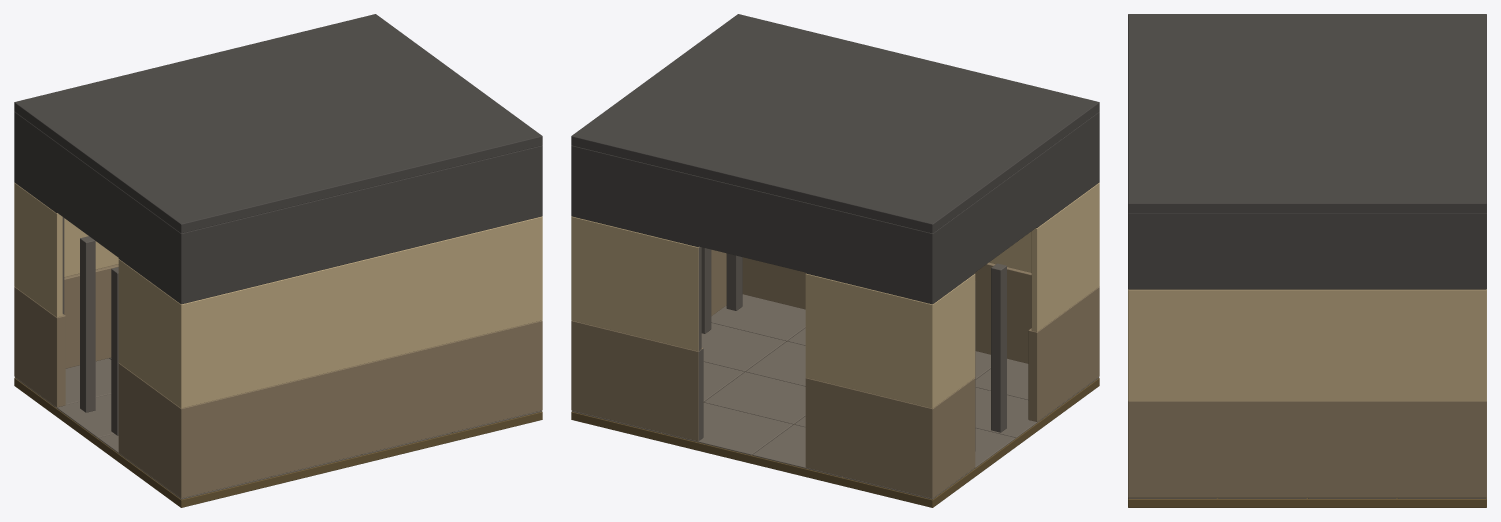
The model's file is gen-furnace.glb.
3 renders of one model, left to right at view 1: azimuth 30°, elevation 25°; view 2: azimuth 150°, elevation 25°; view 3: azimuth 270°, elevation 25°, orthographic. The views are drawn at different scales.
Visible parts, largest first — view 1: THE FURNACE; view 2: THE FURNACE; view 3: THE FURNACE.
Boxes of the visible parts, bbox=[...] form: THE FURNACE: bbox=[14, 14, 542, 507]; THE FURNACE: bbox=[571, 14, 1099, 507]; THE FURNACE: bbox=[1128, 14, 1486, 507].
Bounding box in the file's own units: 4 × 3 × 3.2.
